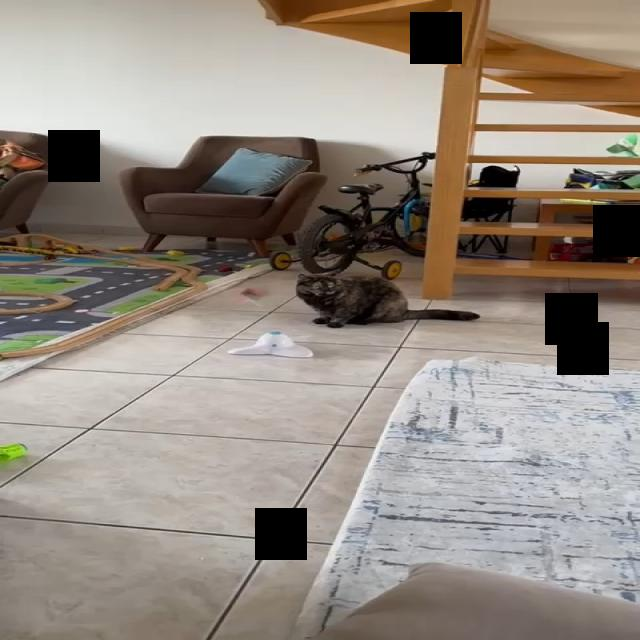authorized: (295, 272, 480, 328)
